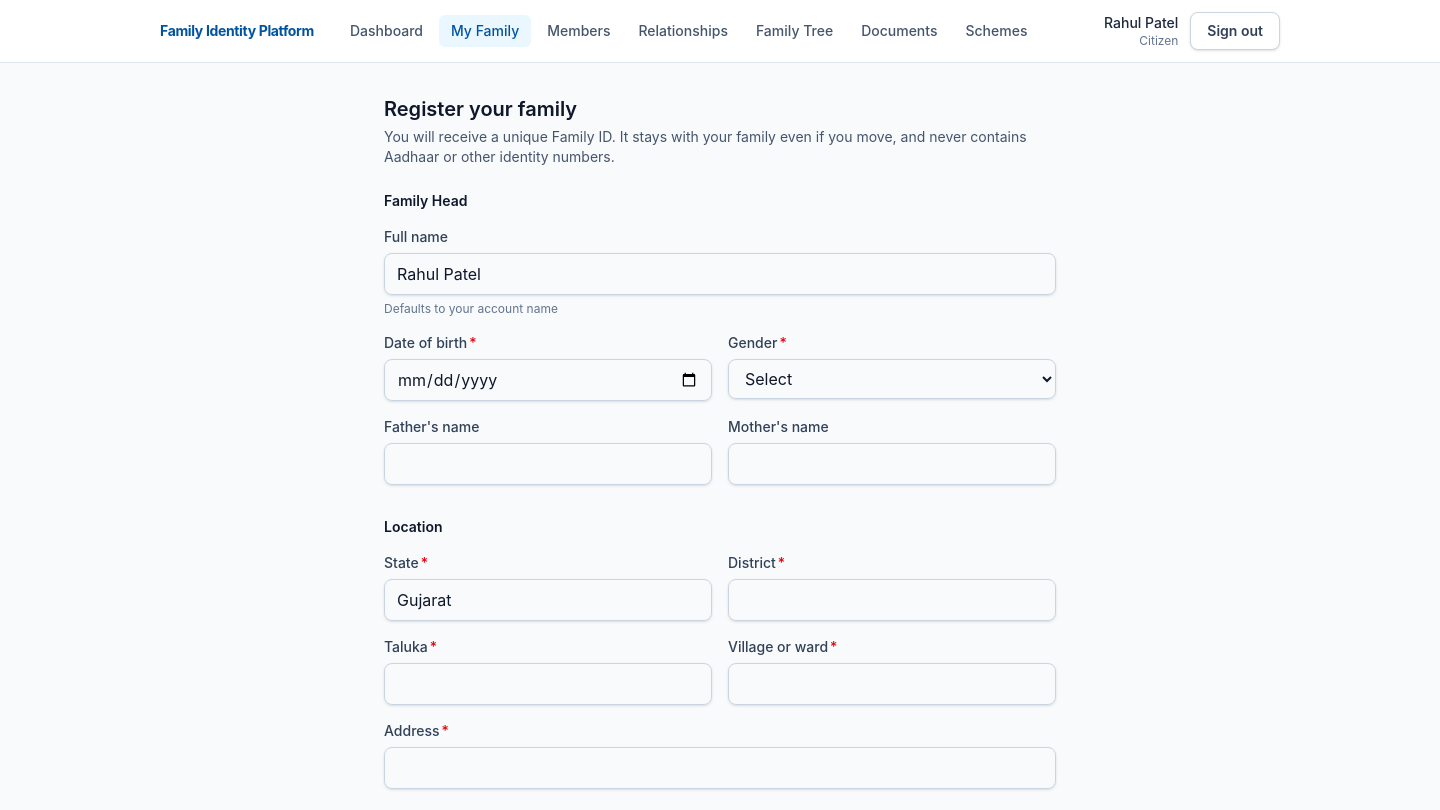
FamilyRegistrationPage › shows a banner when a family is already registered
Expected: the field labelled "Full name" is shown, [384,253,1056,295]
Type "1985-04-12" into the date field labelled "Date of birth*" at [548, 380], box [384,359,712,401]
Select "Male" in the dropdown labelled "Gender*" at [892, 379], box [728,359,1056,399]
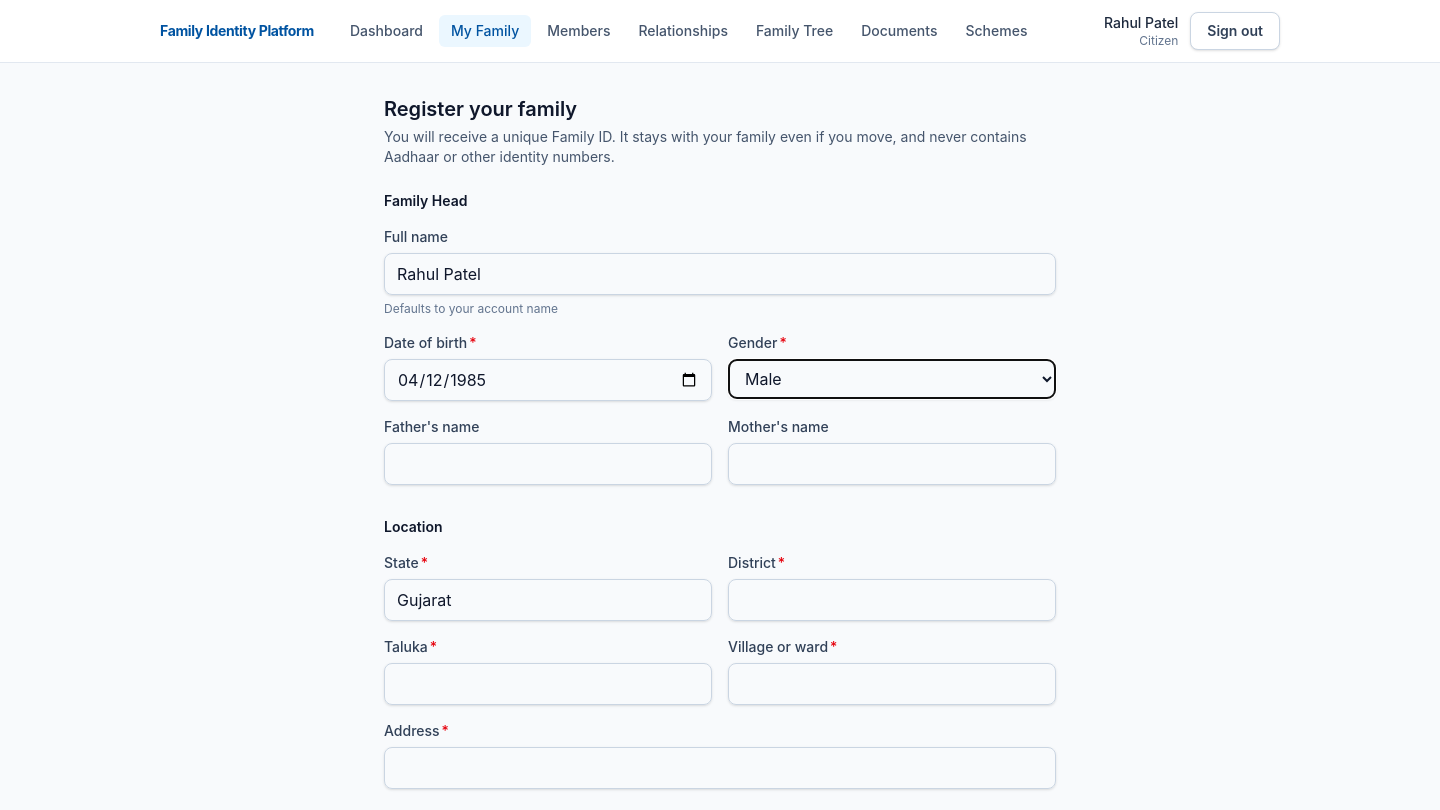
Type "Ahmedabad" into the field labelled "District*" at [892, 600], box [728,579,1056,621]
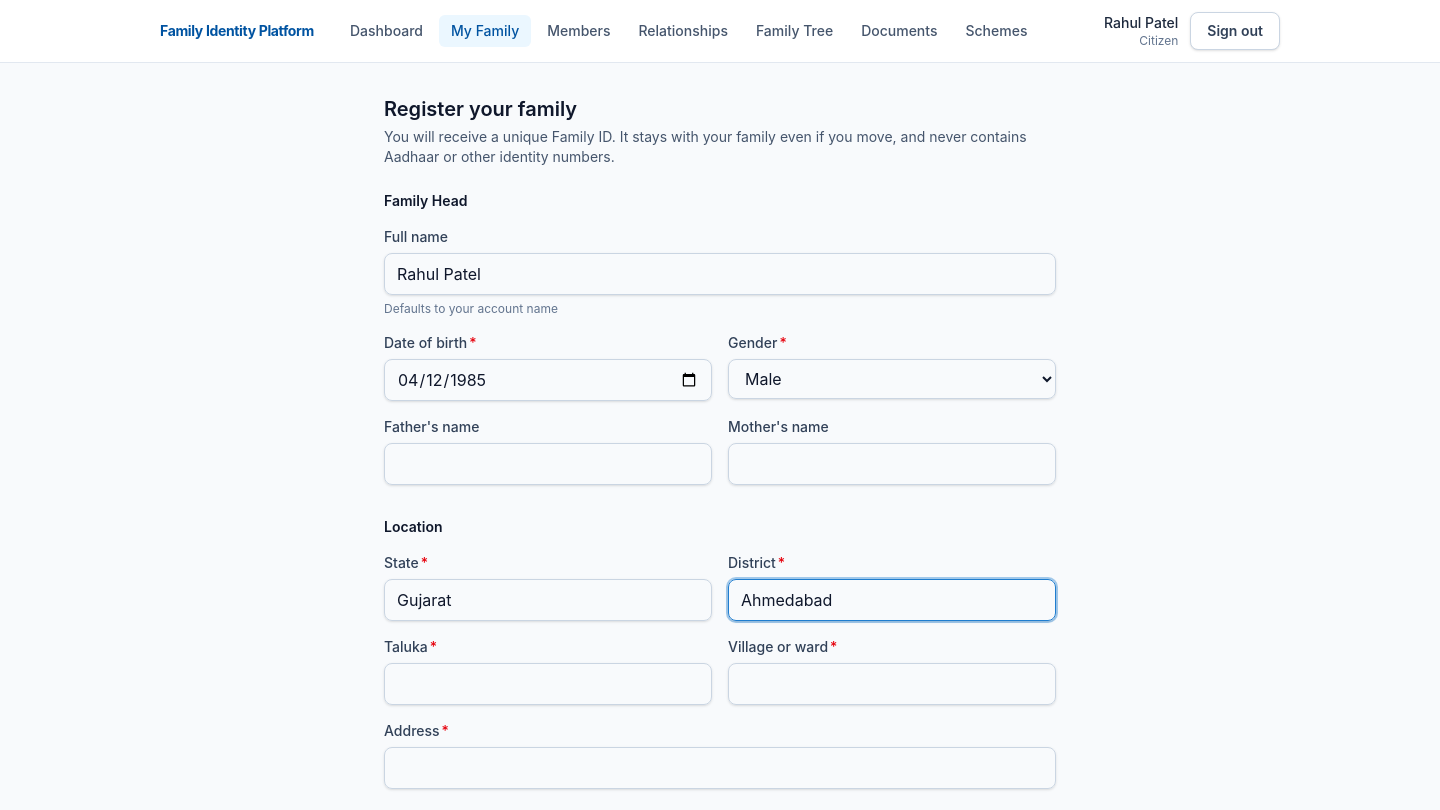
Type "Daskroi" into the field labelled "Taluka*" at [548, 684], box [384,663,712,705]
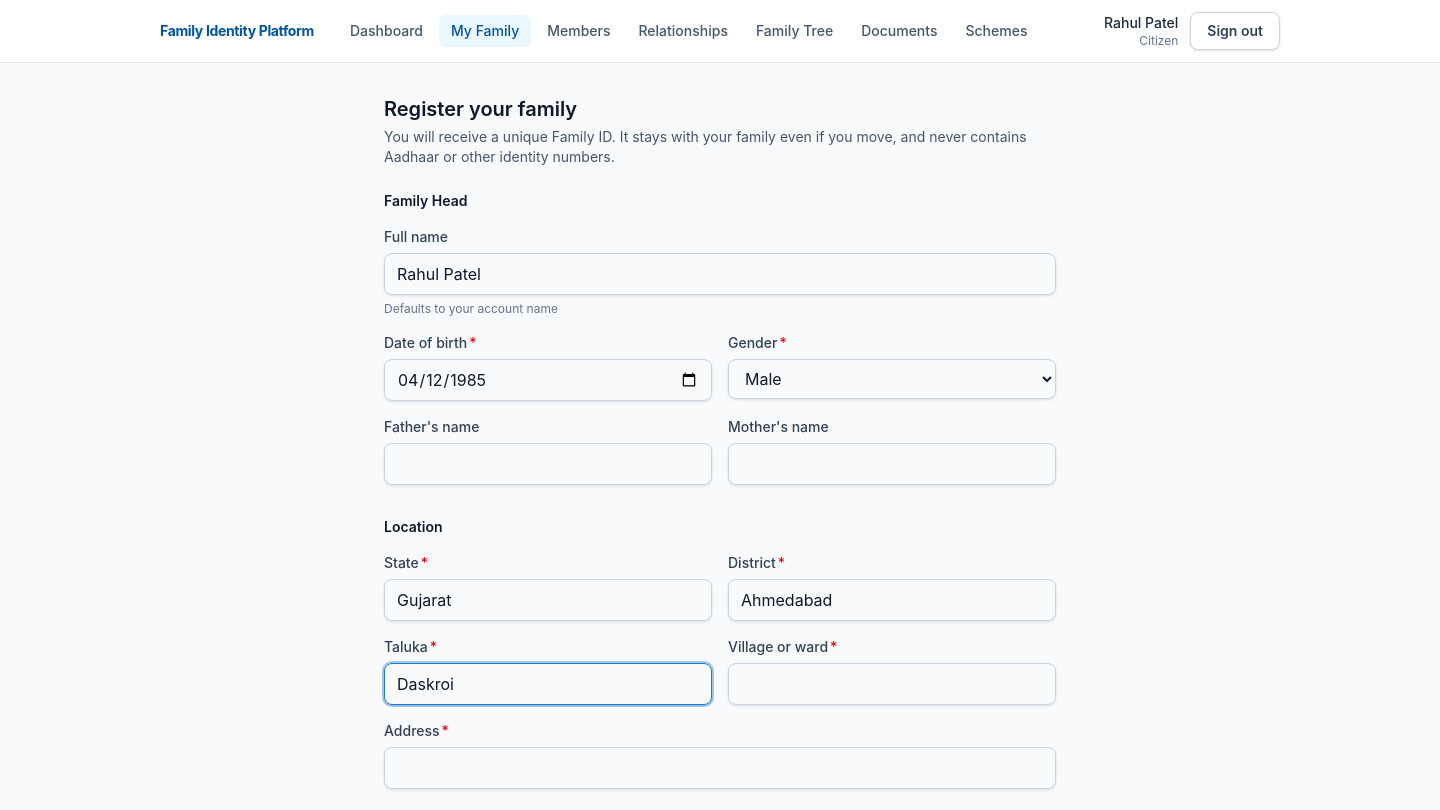
Type "Example Village" into the field labelled "Village or ward*" at [892, 684], box [728,663,1056,705]
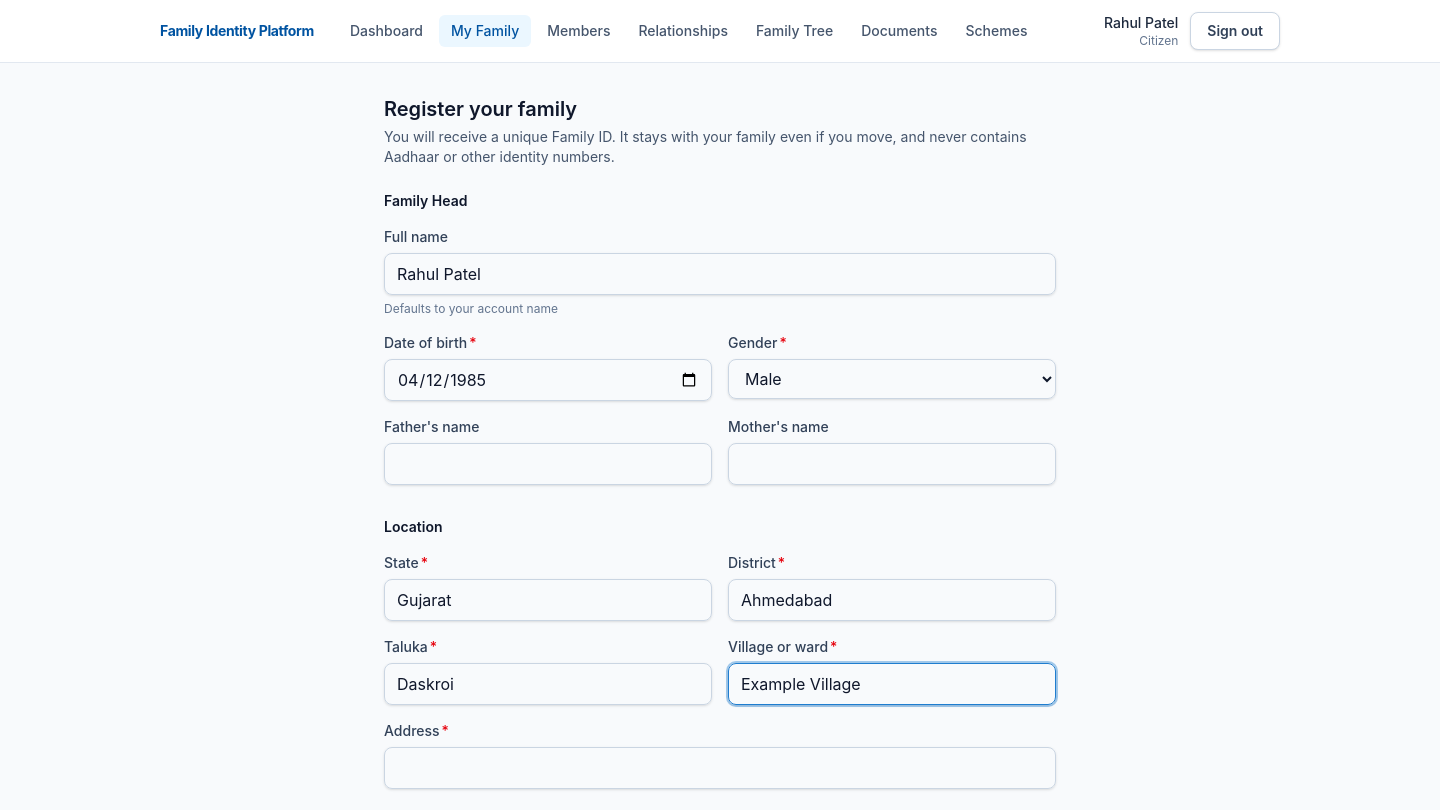
Type "12 Example Road" into the field labelled "Address*" at [720, 768], box [384,747,1056,789]
(page scrolled)
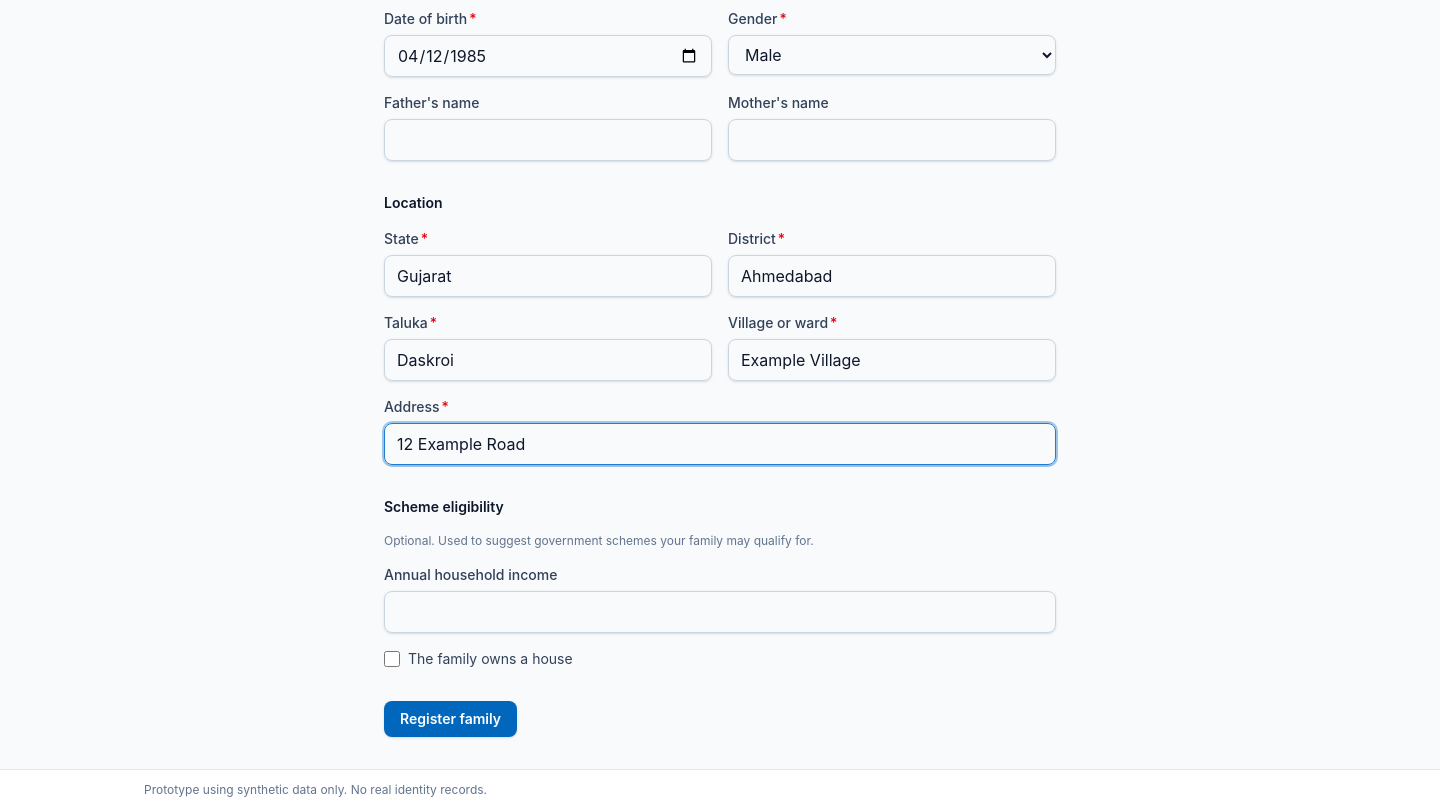
Click the button "Register family" at [450, 719], box [384,701,517,737]
(page scrolled)
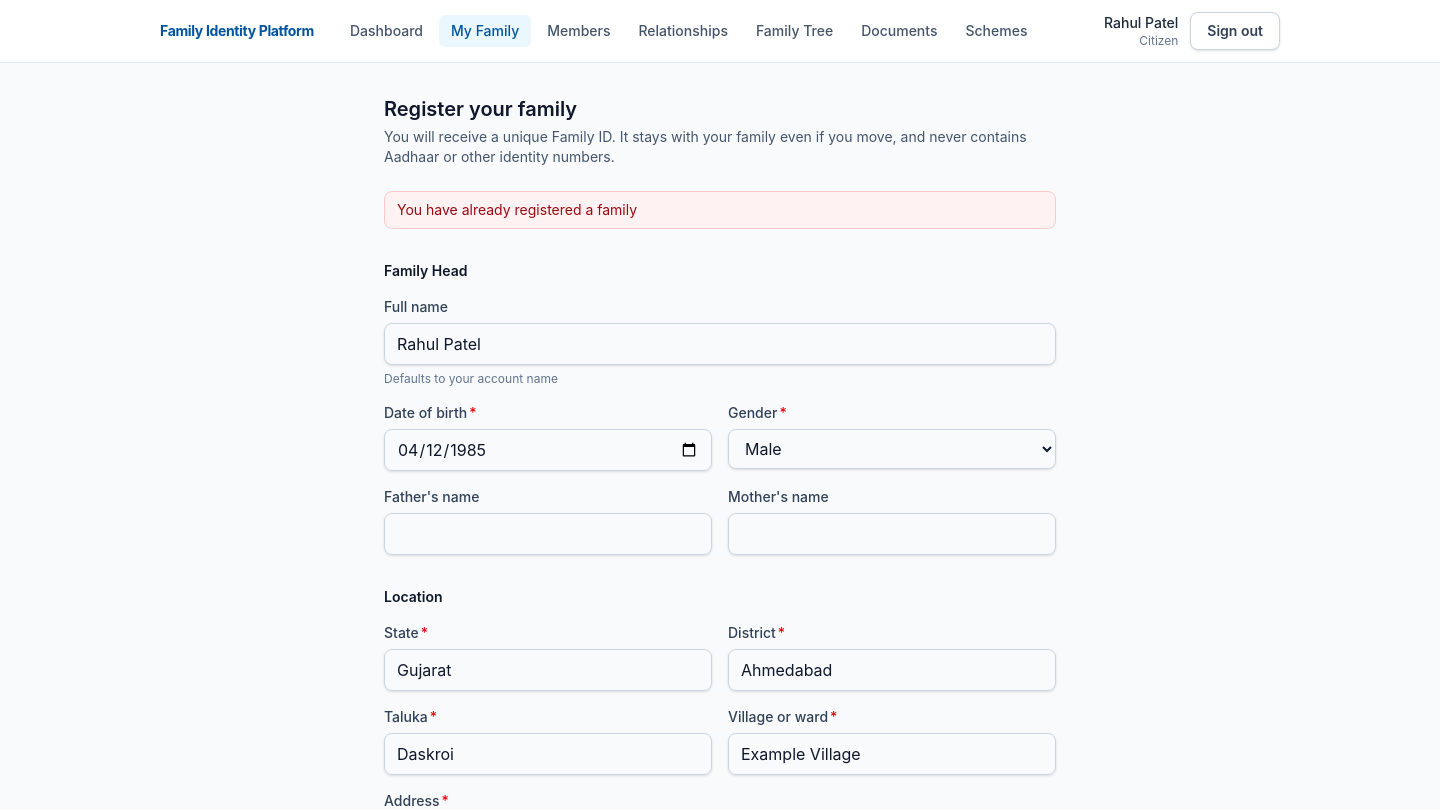
Expected: the message shows "already registered a family", [397,201,637,218]
